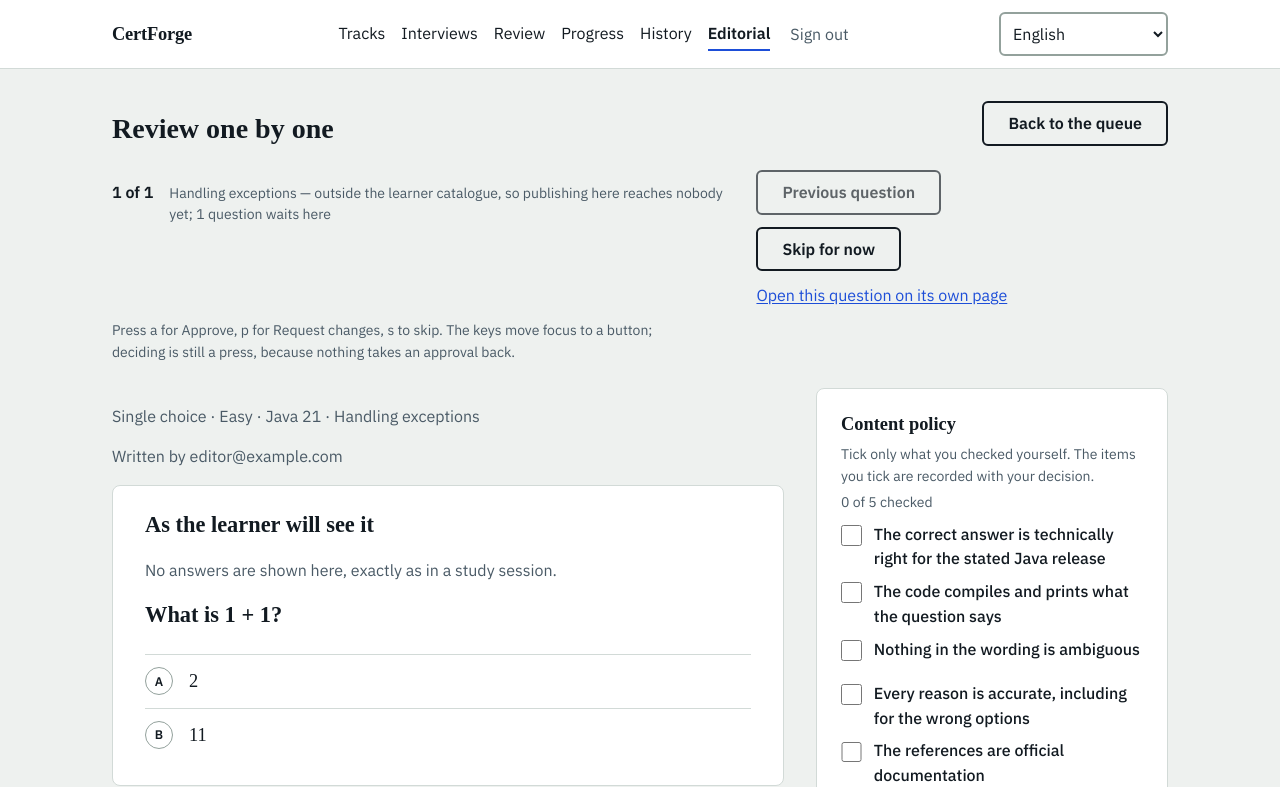
Test case: the review worklist › says when the worklist is finished, and that skipped questions are still waiting
Click the button "Skip for now".
click(829, 249)  # box [756,227,901,271]
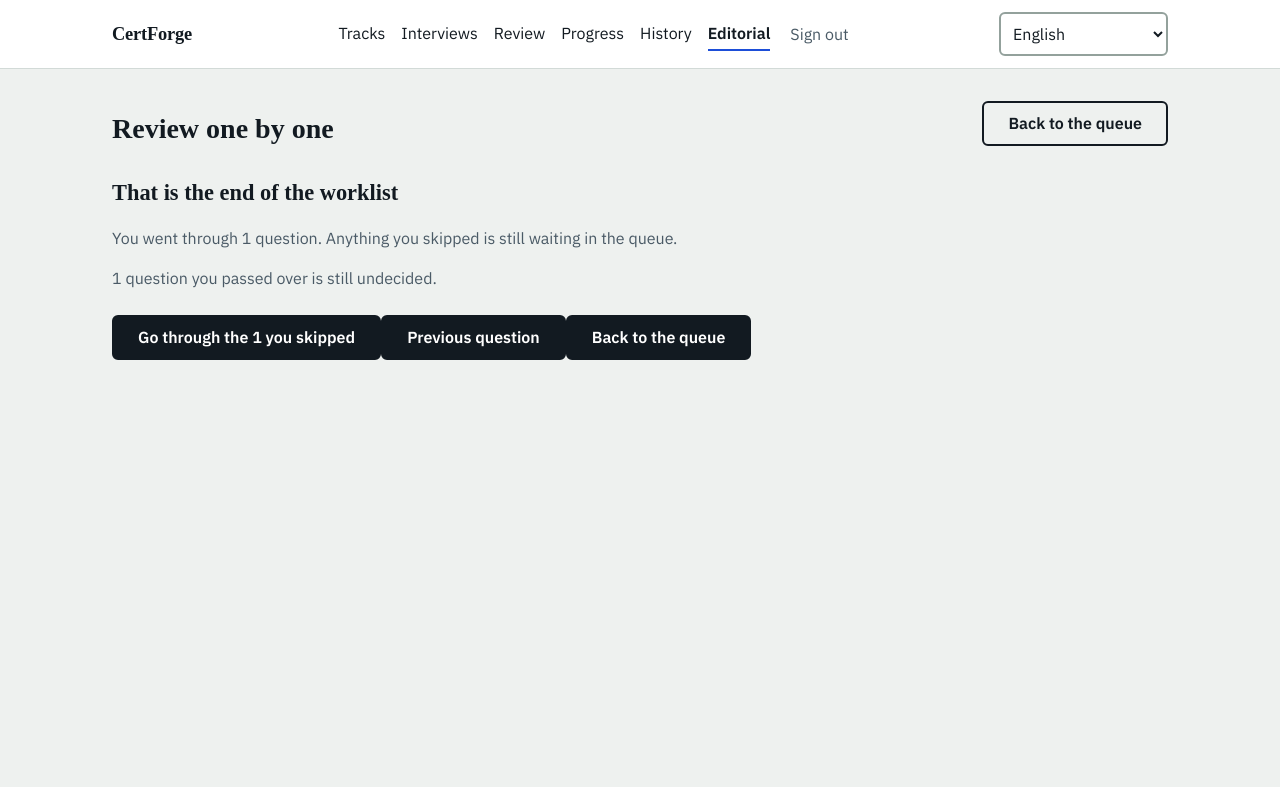
Check: the heading "That is the end of the worklist" is shown, box [112,180,398,205]
Check: the text "still waiting in the queue" is shown, box [112,228,678,248]
